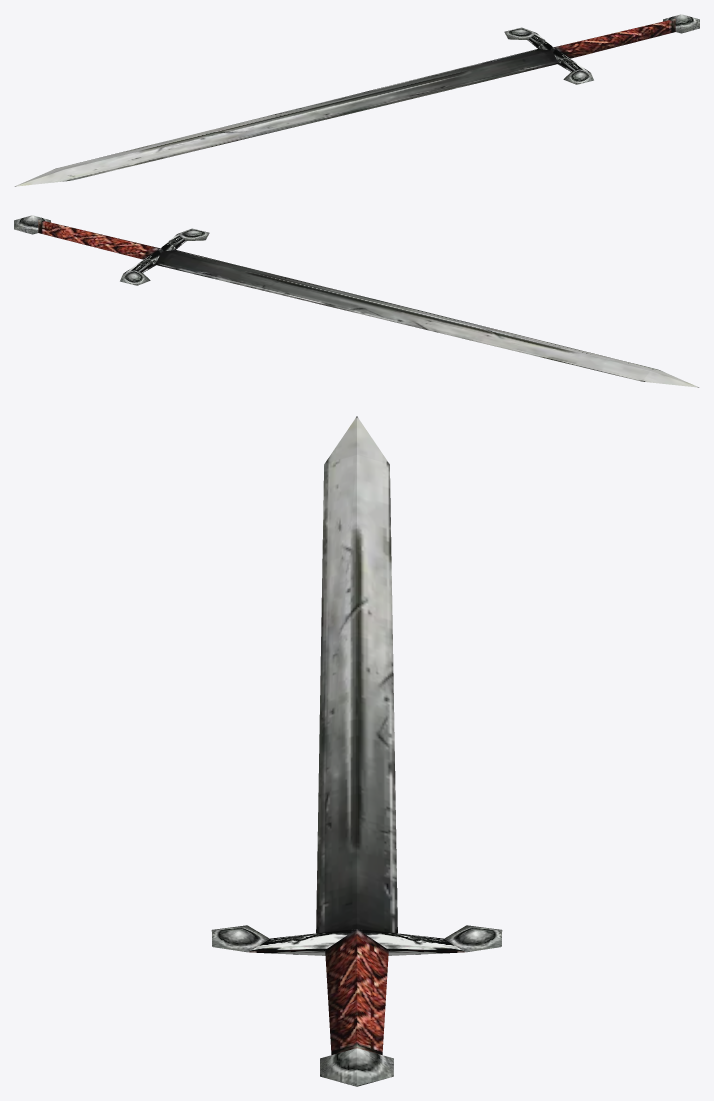
The model's file is ITMW_045_1H_SWORD_SMITH_02.glb.
The picture shows the model from 3 angles, top to bottom: view 1: azimuth 30°, elevation 25°; view 2: azimuth 150°, elevation 25°; view 3: azimuth 270°, elevation 25°; orthographic projection. The views are drawn at different scales.
Parts seen in each view (by area): view 1: ITMW_045_1H_SWORD_SMITH_02; view 2: ITMW_045_1H_SWORD_SMITH_02; view 3: ITMW_045_1H_SWORD_SMITH_02.
Boxes of the visible parts, <box> form: ITMW_045_1H_SWORD_SMITH_02: <box>15,14,699,186</box>; ITMW_045_1H_SWORD_SMITH_02: <box>14,215,698,387</box>; ITMW_045_1H_SWORD_SMITH_02: <box>211,416,502,1086</box>.
Bounding box in the file's own units: 1.11 × 0.03 × 0.2035.
2 materials, 2 textured.
